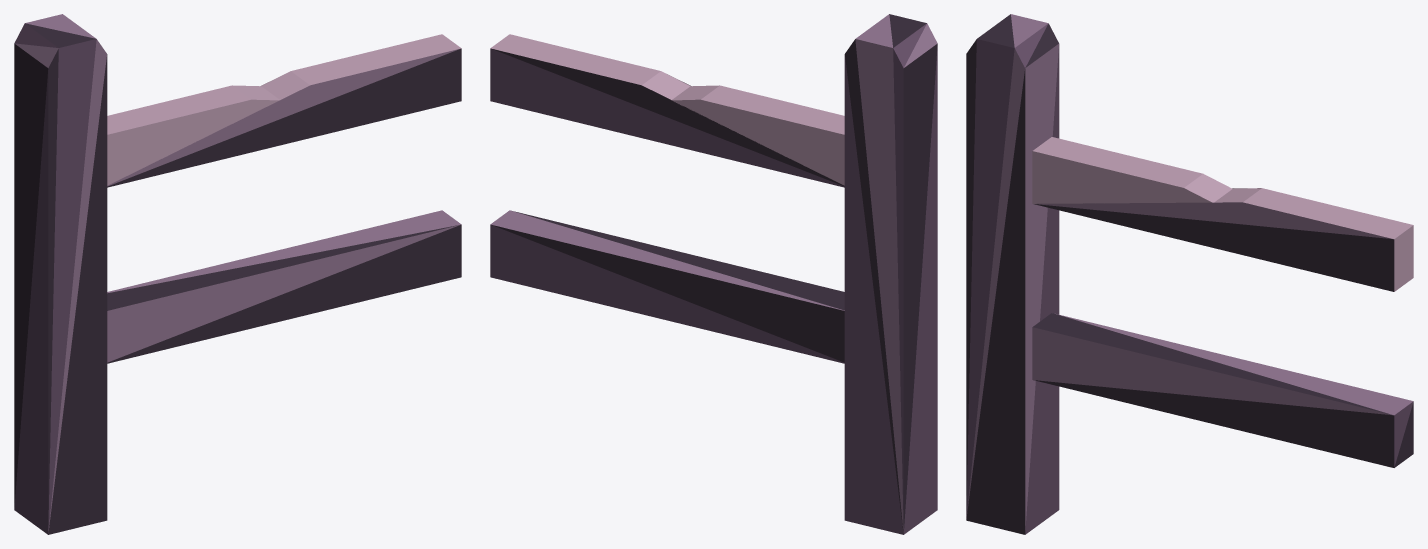
Rendered from TW_WOOD_RAIL_1M_A_LOD0.glb.
3 views of the same model, side by side, from view 1: azimuth 30°, elevation 25°; view 2: azimuth 150°, elevation 25°; view 3: azimuth 330°, elevation 25° (orthographic).
Visible parts, largest first — view 1: TW_WOOD_RAIL_1M_A_LOD0; view 2: TW_WOOD_RAIL_1M_A_LOD0; view 3: TW_WOOD_RAIL_1M_A_LOD0.
Boxes of the visible parts, box(x1,y1,x2,y2) form: TW_WOOD_RAIL_1M_A_LOD0: box(14, 14, 461, 534); TW_WOOD_RAIL_1M_A_LOD0: box(490, 14, 937, 534); TW_WOOD_RAIL_1M_A_LOD0: box(966, 14, 1413, 534).
Bounding box in the file's own units: 1 × 1.1 × 0.14.
1 material, 1 textured.
